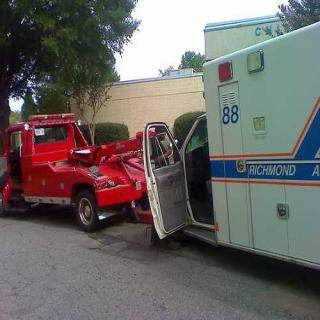Towing_truck: (1, 111, 163, 232)
